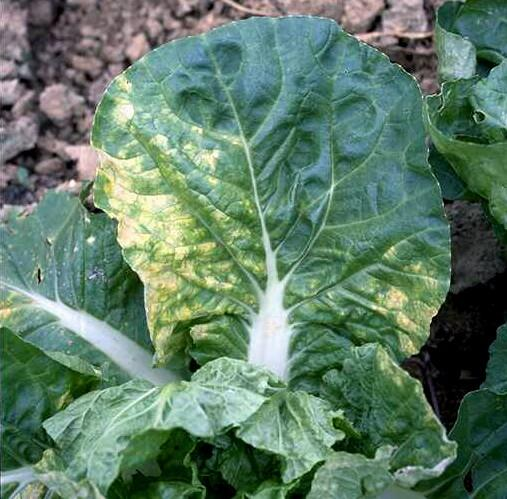Bok-Choy-Diseased: (78, 27, 438, 365)
